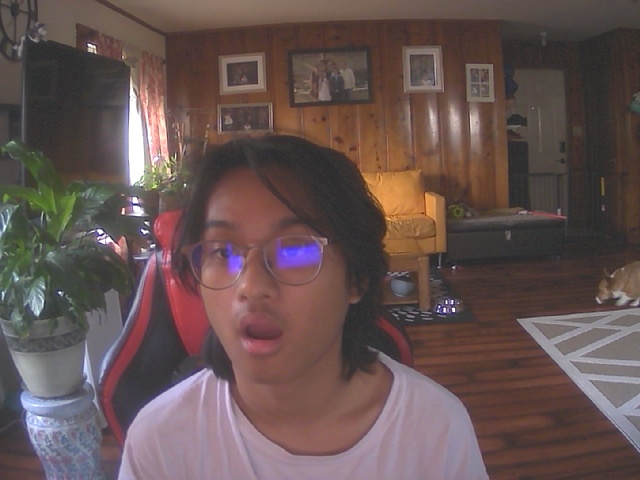fear: (178, 144, 375, 391)
